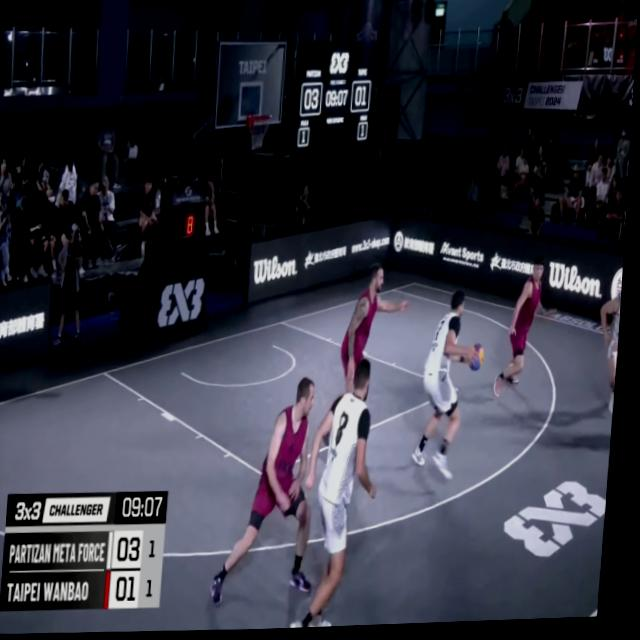ball: (470, 343, 492, 378)
hoop: (244, 110, 272, 154)
player: (215, 381, 326, 614), (298, 367, 384, 630), (418, 295, 485, 478), (496, 261, 566, 406), (343, 270, 411, 397), (597, 277, 626, 419)
